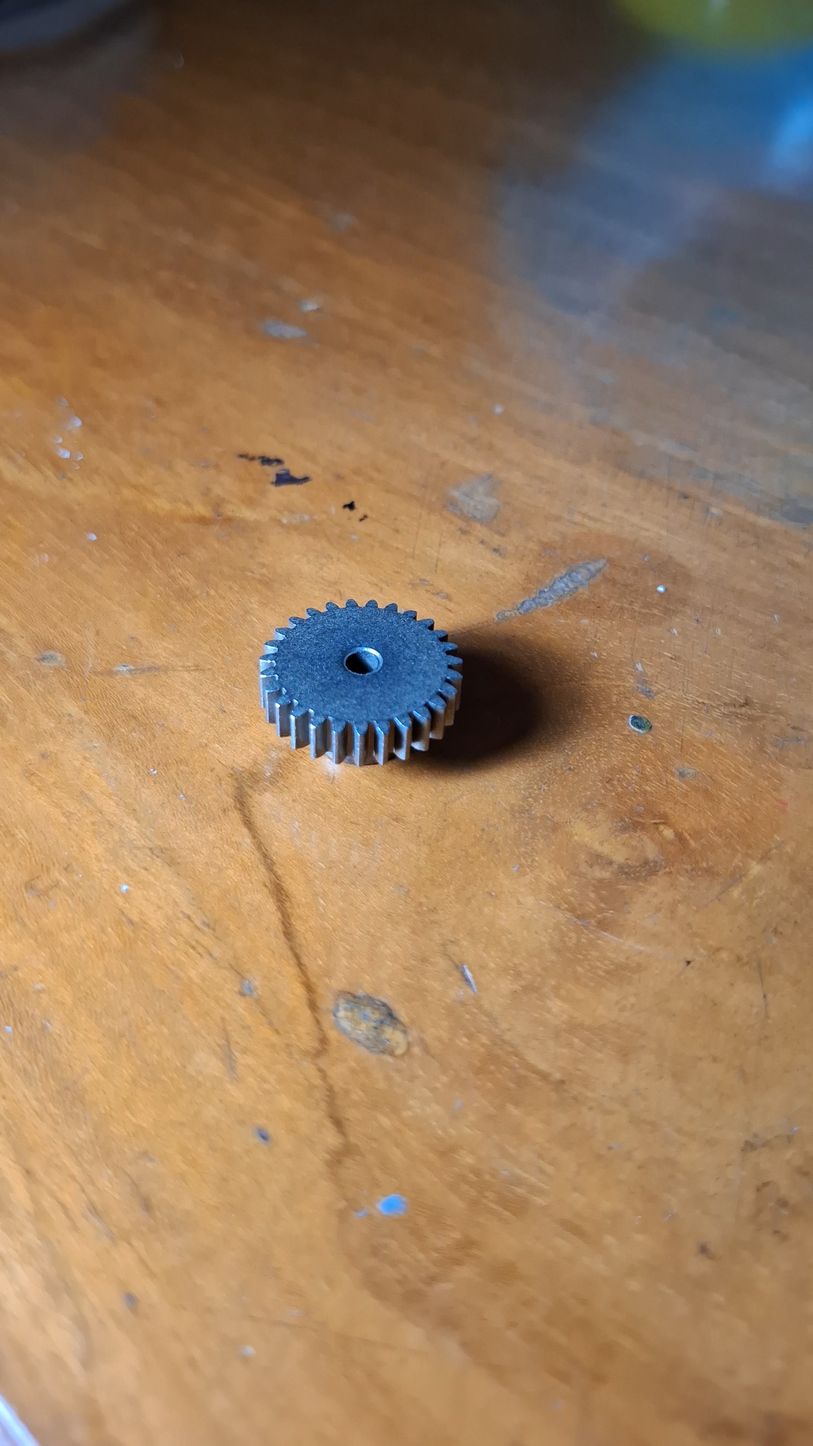spur gear: (259, 600, 461, 765)
